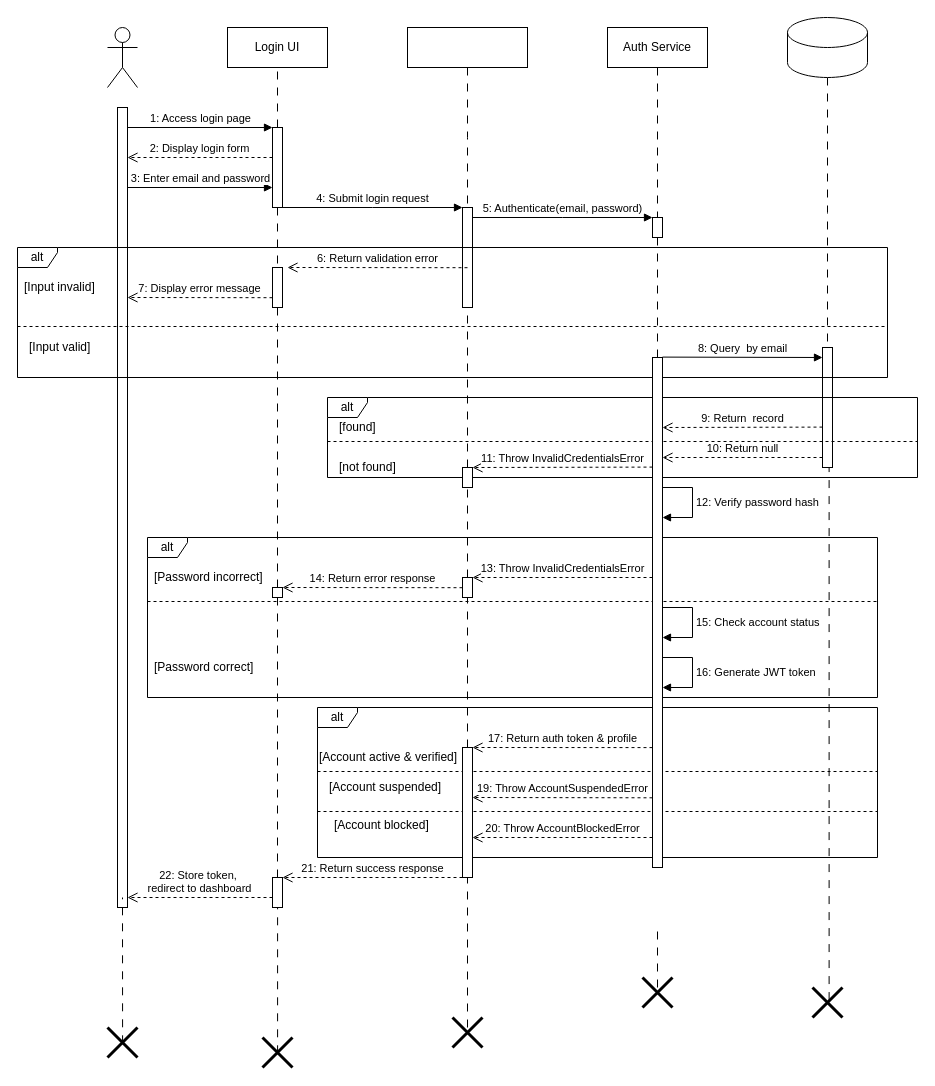
The diagram is 935 pixels wide and 1086 high, and some of its shapes have lost their labels. The shapes that lost their labels are listed below. From the top down, each one's box as (x1, y1, x2, y2) in pixels, then its label:
(106, 26, 138, 88): Salesperson
(406, 26, 528, 68): Auth Controller
(786, 16, 868, 78): Database
